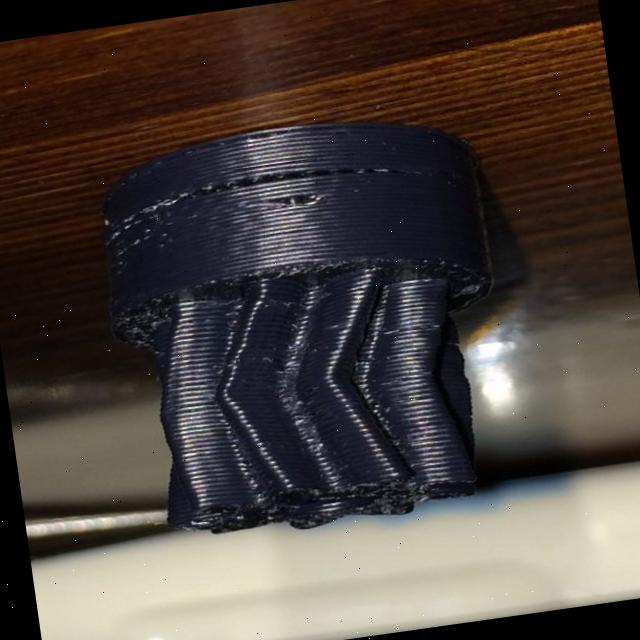cracks: (181, 142, 403, 218)
